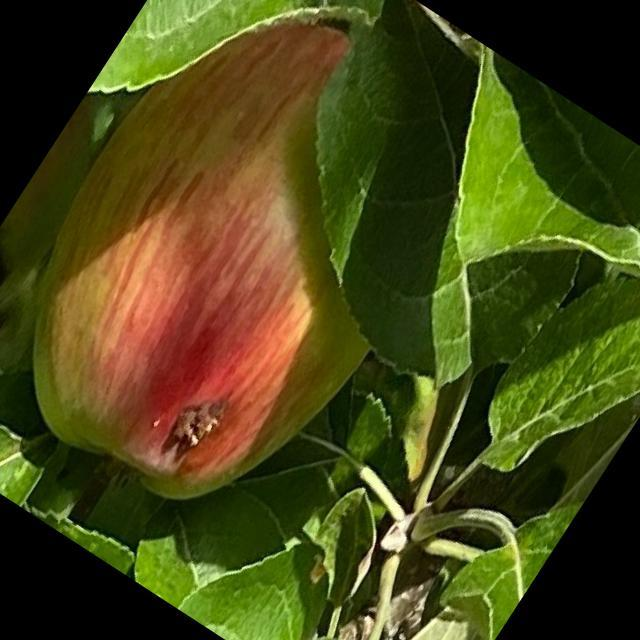100-_ripeness: (0, 0, 504, 553)
